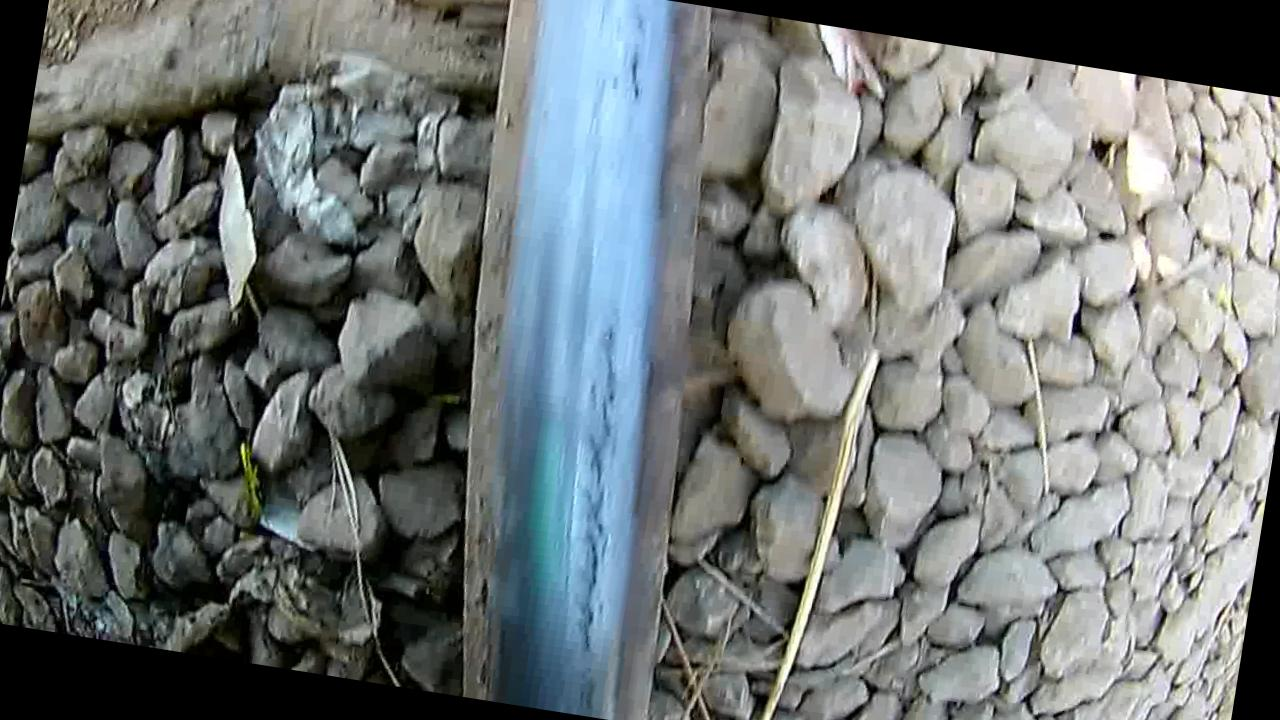normal_track: (494, 19, 694, 654)
